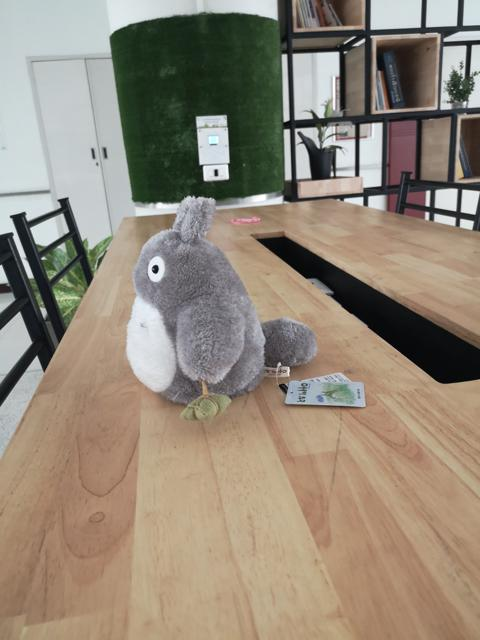totoro: (120, 194, 321, 427)
